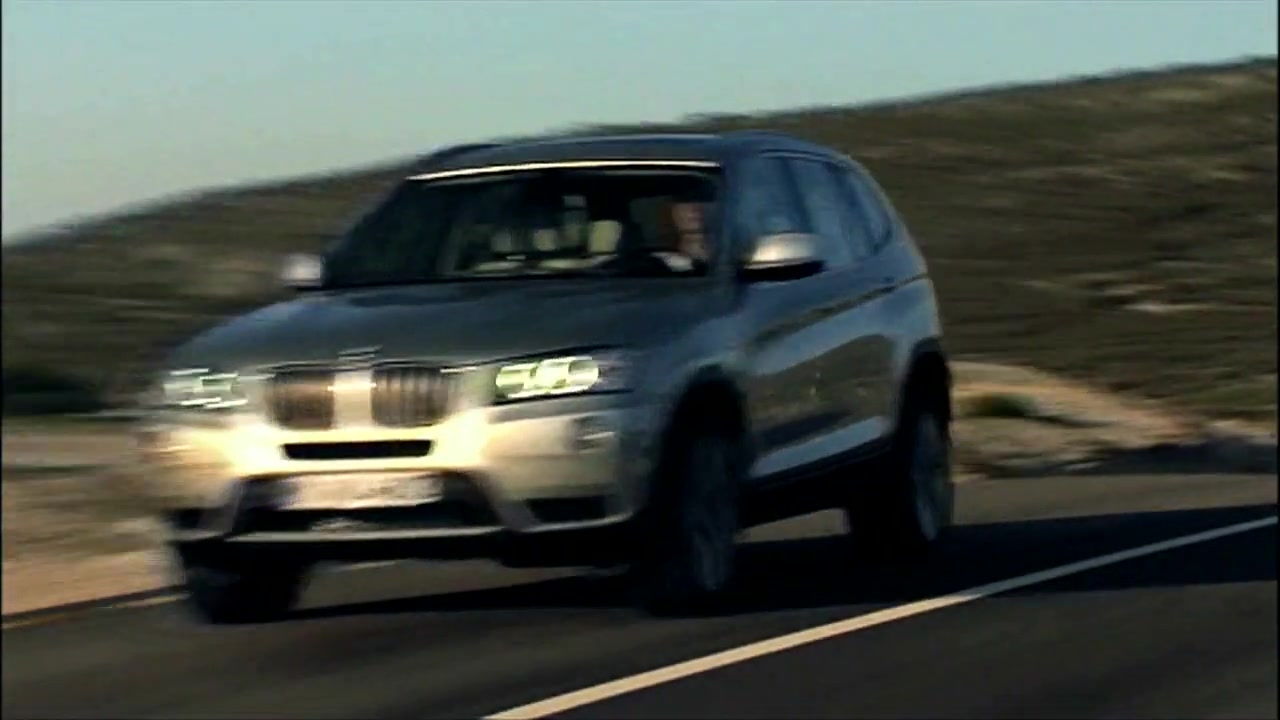car: (132, 134, 964, 623)
